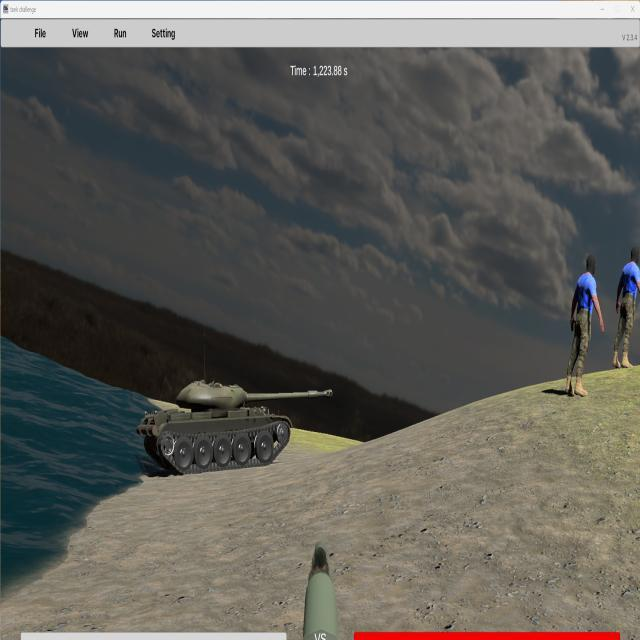Human: (566, 252, 605, 399), (612, 246, 640, 369)
Tank: (136, 379, 332, 478)
